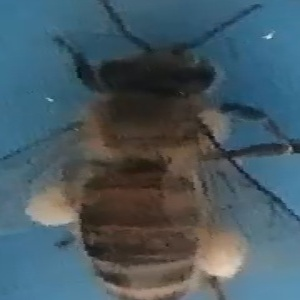bee: (27, 6, 293, 300)
